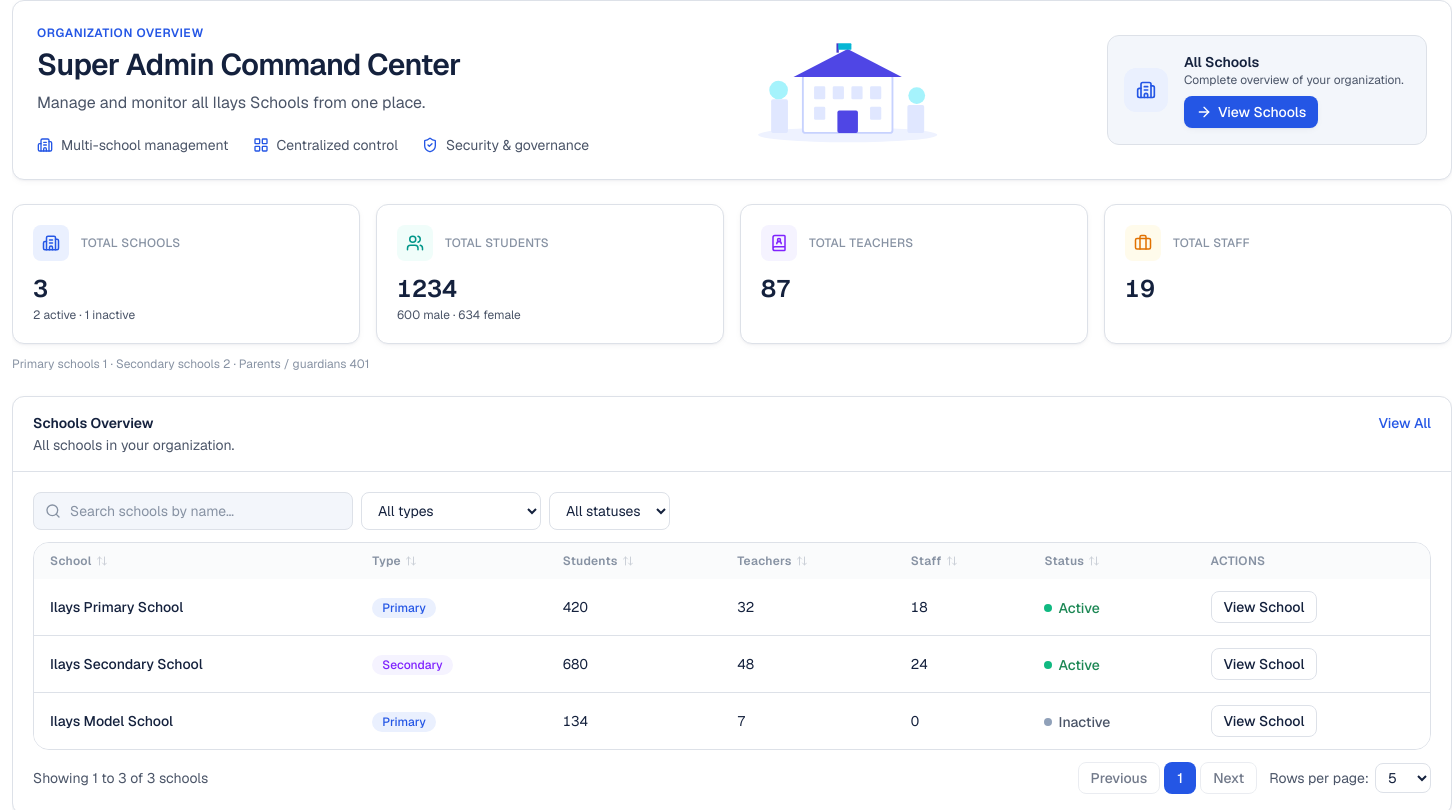
Test case: OrganizationControlCenter — Schools Overview (real schools) › searches by name
Check: the heading "Schools Overview" is shown, box [33,414,154,432]
Type "secondary" into the field with placeholder "Search schools by name…" at {"x": 193, "y": 511}, box [33,492,353,530]
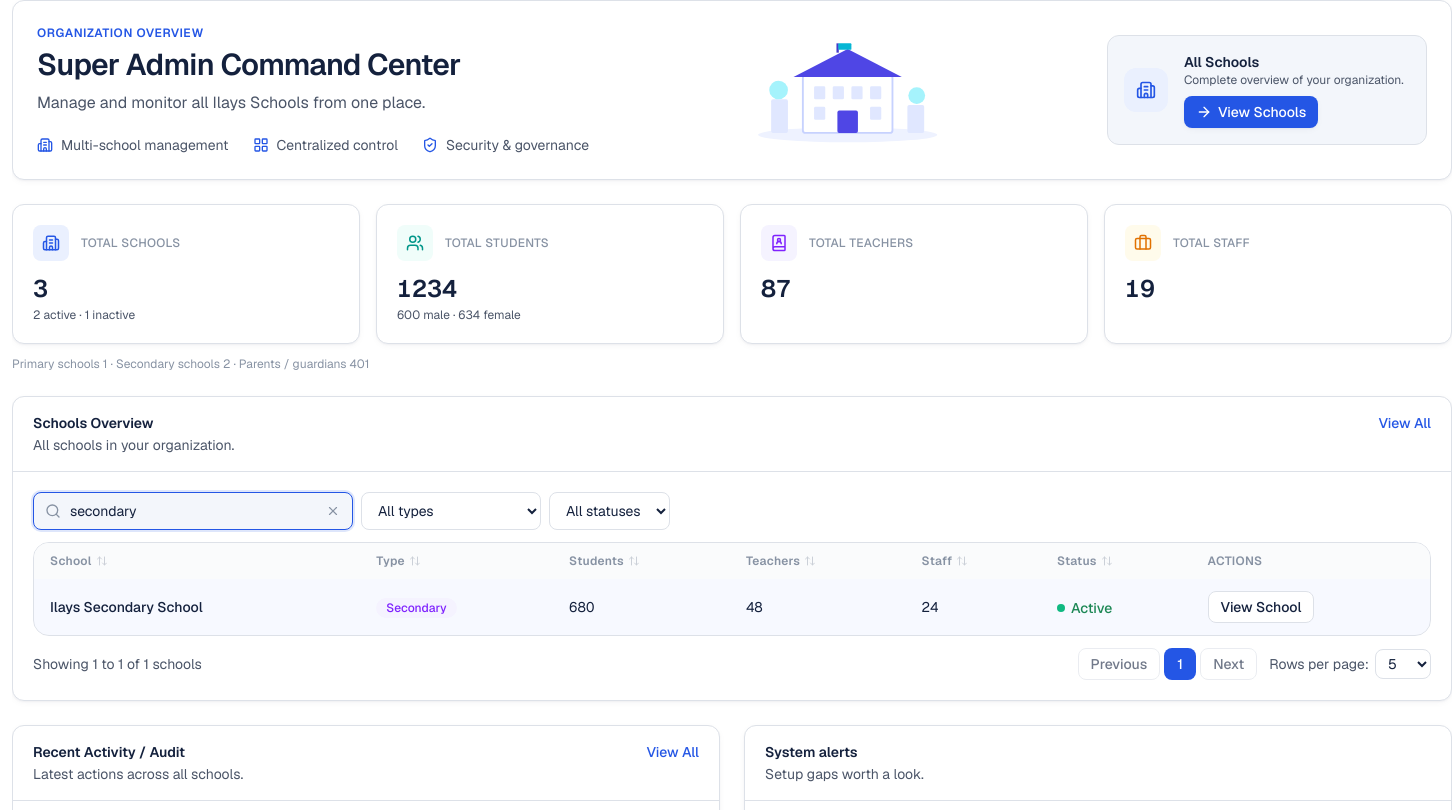
Check: the text "Ilays Secondary School" is shown, box [50,598,203,616]
Check: the text "Ilays Primary School" is gone
